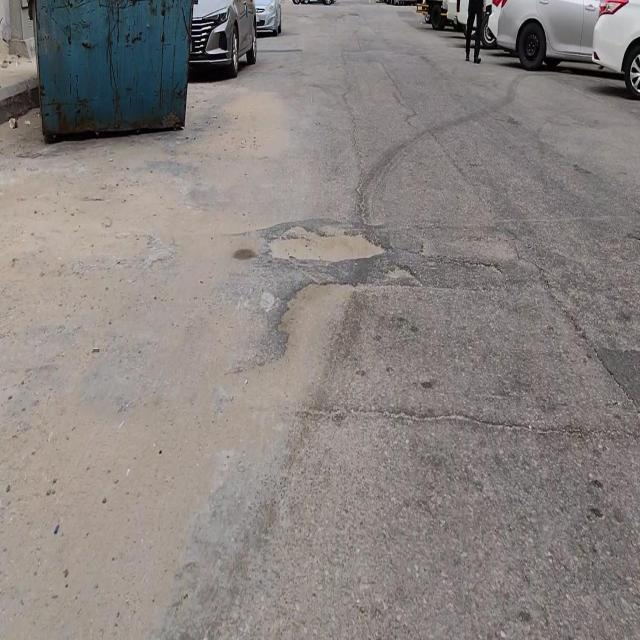Pothole: (266, 222, 386, 265)
